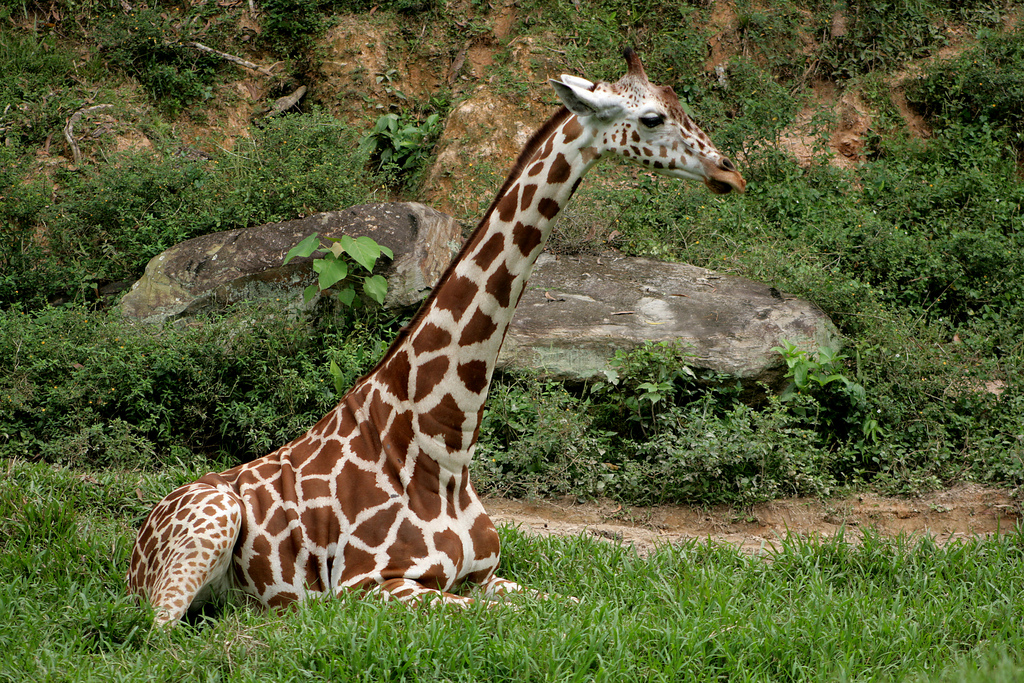giraffe: (120, 62, 758, 617)
